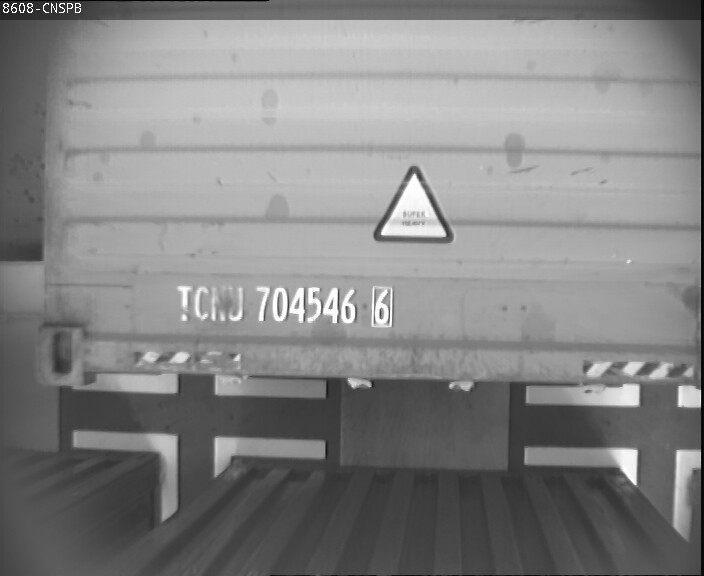groundmarker_1: (68, 429, 325, 526), (523, 446, 704, 544)
